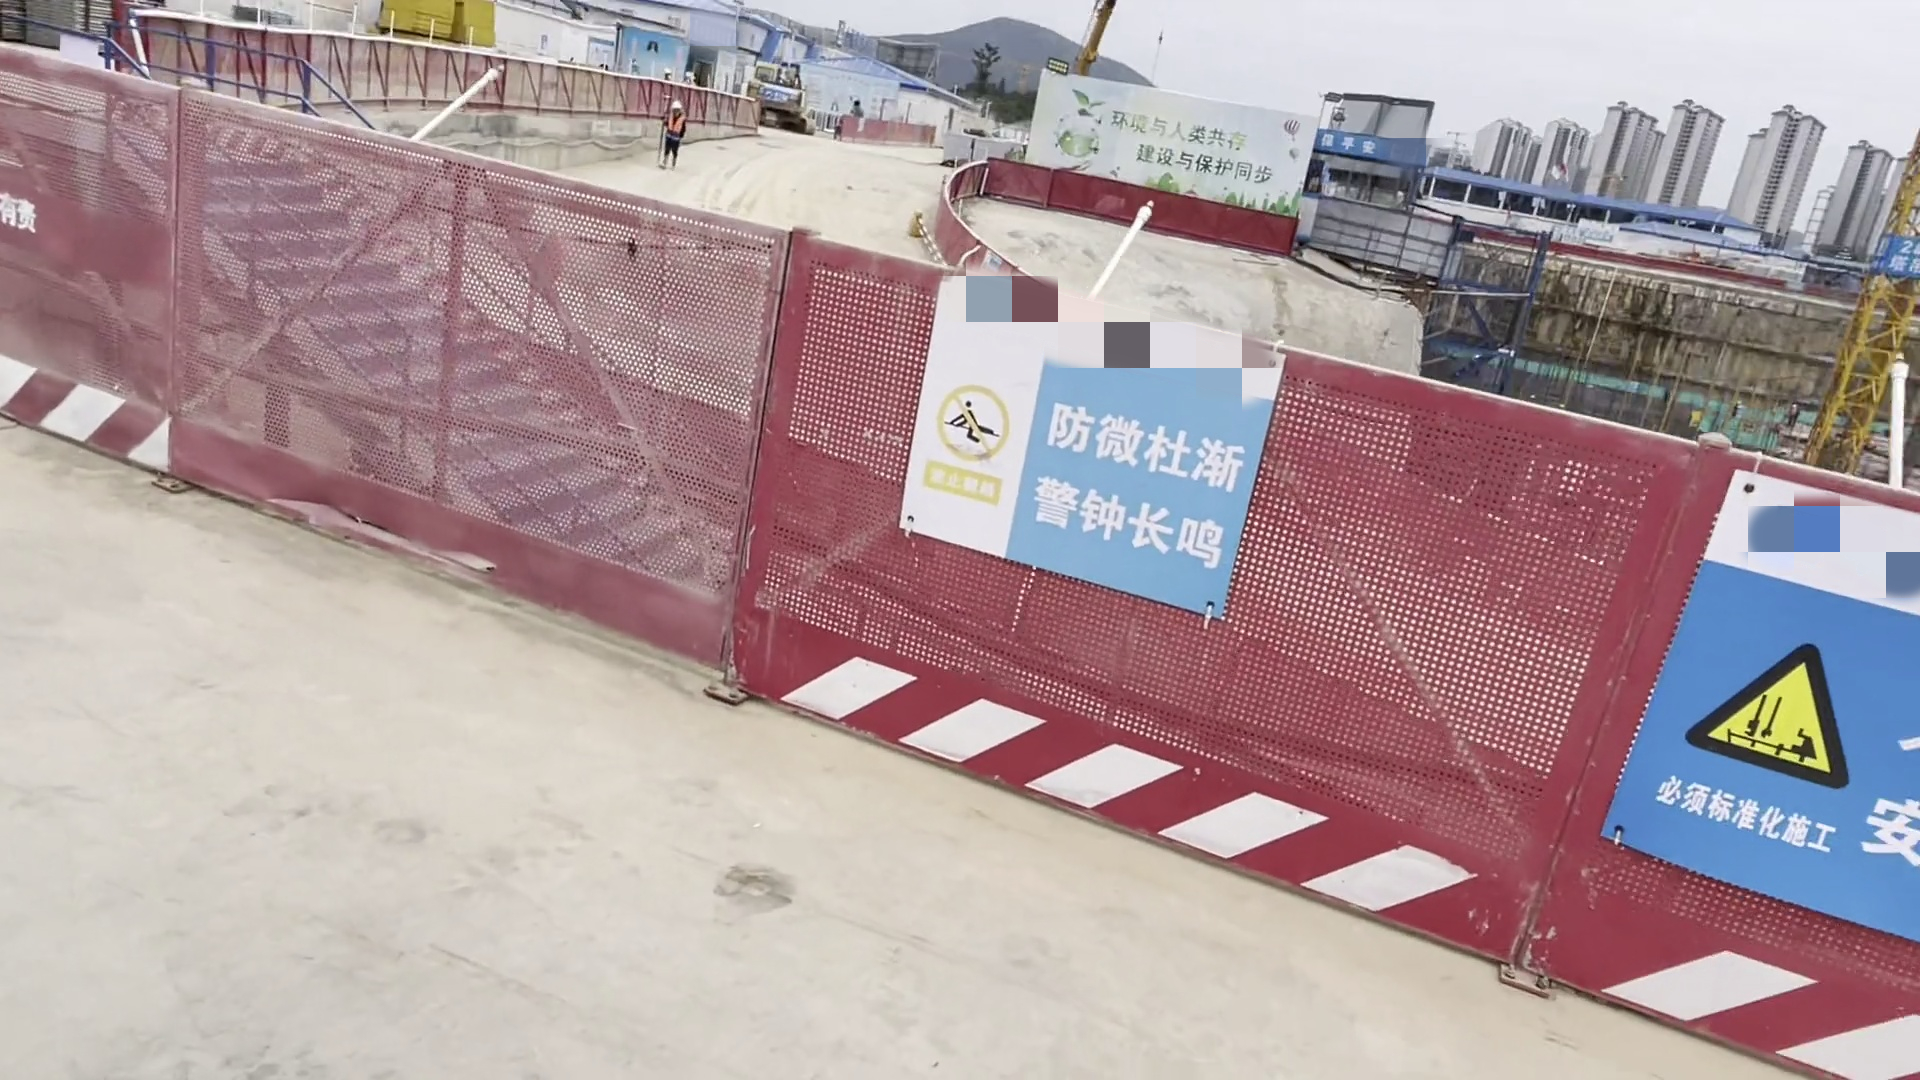fence: (764, 202, 1513, 976), (161, 75, 760, 716), (1518, 411, 1909, 1080), (5, 38, 171, 473)
slogan: (1663, 526, 1920, 897), (909, 345, 1288, 567)
